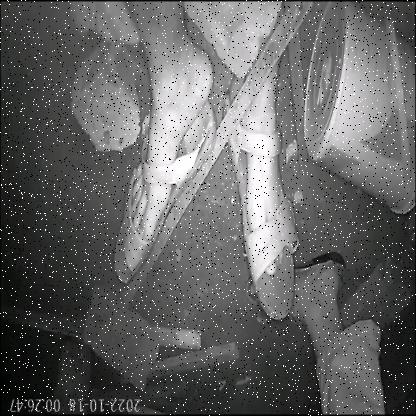leg: (104, 0, 221, 287), (218, 79, 310, 334)
